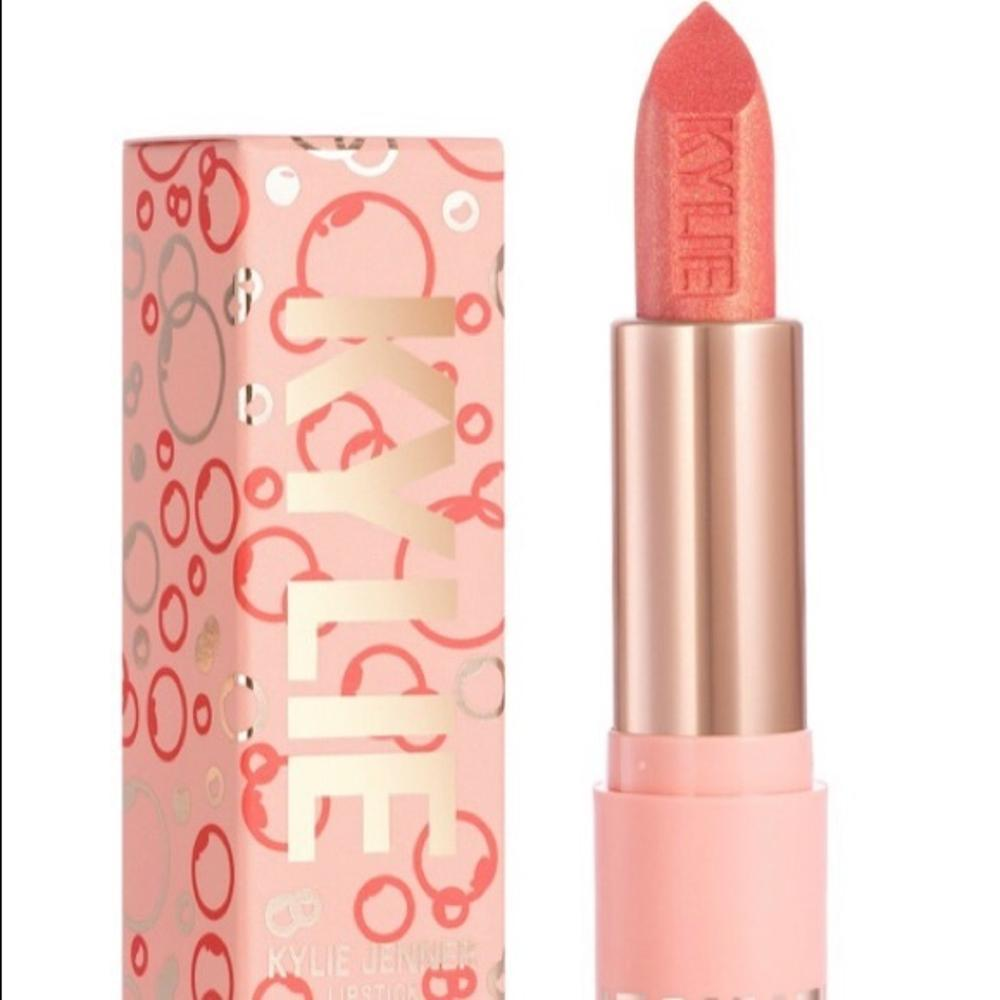lipstick: (564, 0, 887, 1000)
